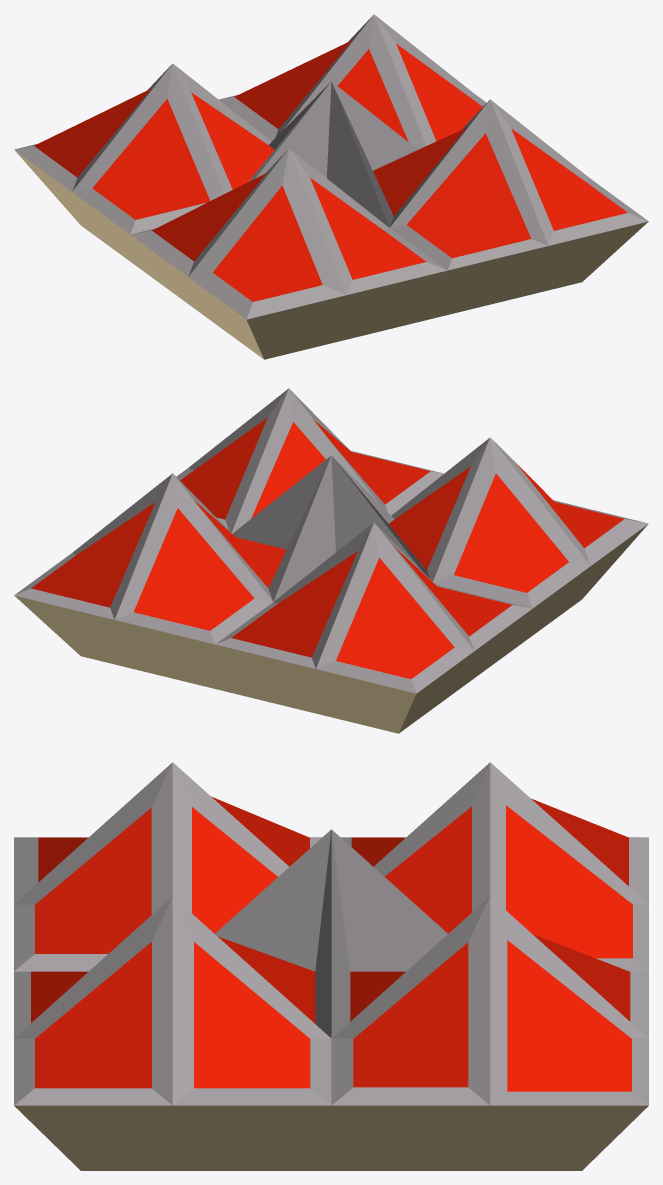
The picture shows the model from 3 angles, top to bottom: view 1: azimuth 30°, elevation 25°; view 2: azimuth 150°, elevation 25°; view 3: azimuth 270°, elevation 25°; orthographic projection. The views are drawn at different scales.
Visible parts, largest first — view 1: Ob11; view 2: Ob11; view 3: Ob11.
Part boxes in pixels (bbox=[...]): Ob11: bbox=[14, 14, 648, 359]; Ob11: bbox=[14, 388, 648, 733]; Ob11: bbox=[14, 762, 648, 1170].
Bounding box in the file's own units: 141 × 57.85 × 141.
